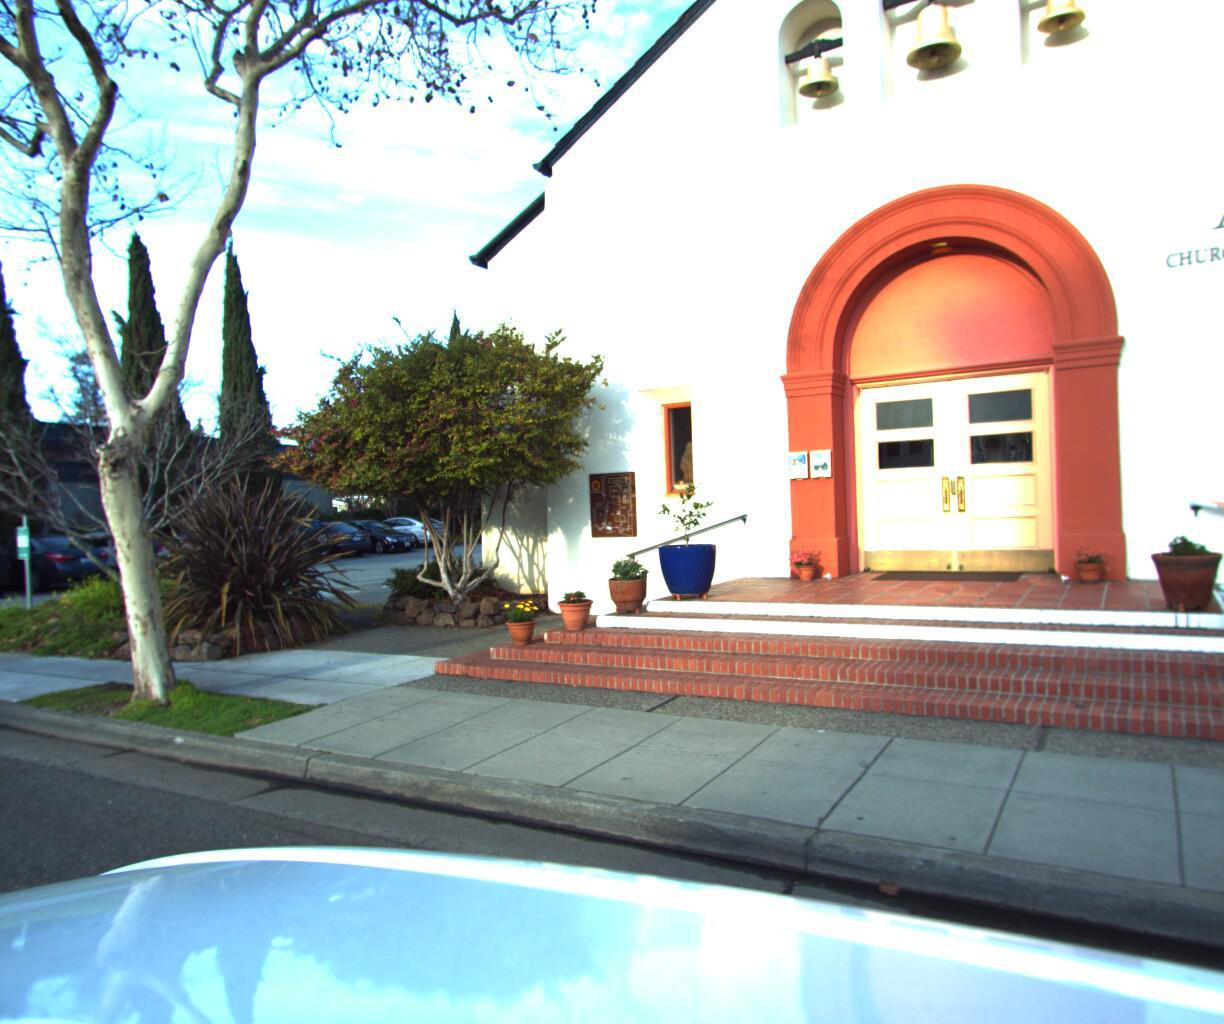car: (0, 527, 120, 592), (0, 521, 21, 601)
